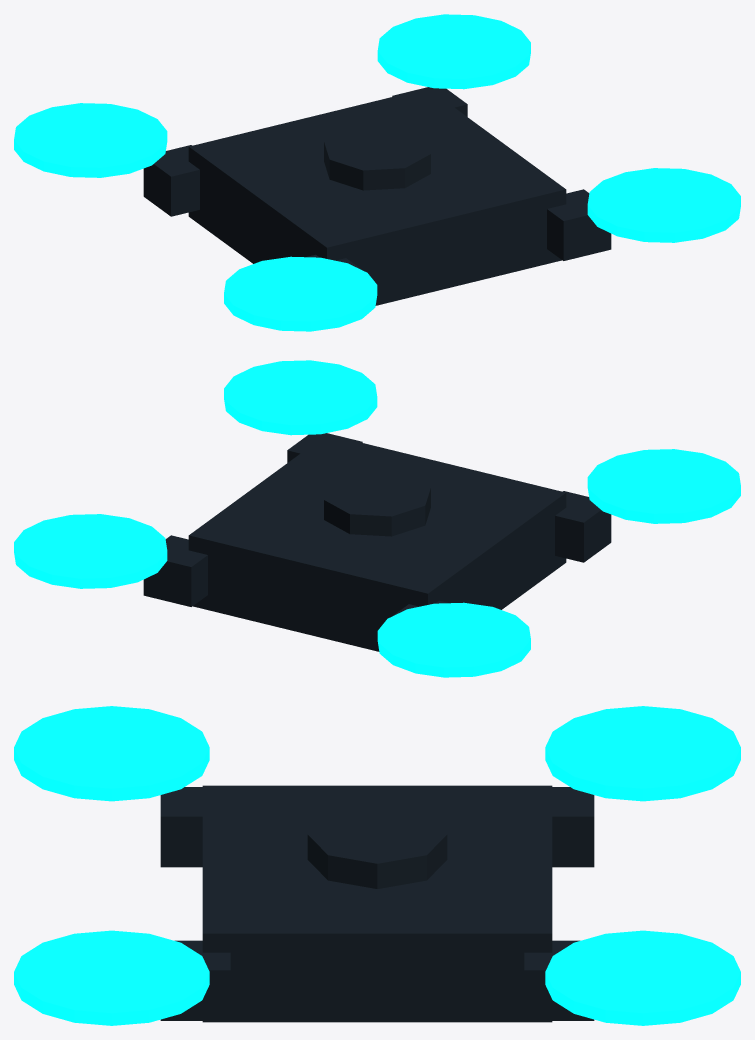
File: Drone.fbx
The picture shows the model from 3 angles, top to bottom: view 1: azimuth 30°, elevation 25°; view 2: azimuth 150°, elevation 25°; view 3: azimuth 270°, elevation 25°; orthographic projection. The views are drawn at different scales.
Parts seen in each view (by area): view 1: Drone_Body, Drone_Rotor_BL, Drone_Rotor_BR, Drone_Rotor_FL, Drone_Rotor_FR, Drone_CentreDome, Drone_Arm_BR, Drone_Arm_FL; view 2: Drone_Body, Drone_Rotor_BL, Drone_Rotor_BR, Drone_Rotor_FL, Drone_Rotor_FR, Drone_CentreDome, Drone_Arm_FR, Drone_Arm_BL; view 3: Drone_Body, Drone_Rotor_BL, Drone_Rotor_BR, Drone_Rotor_FL, Drone_Rotor_FR, Drone_CentreDome, Drone_Arm_BL, Drone_Arm_FL, Drone_Arm_BR, Drone_Arm_FR.
Boxes of the visible parts, bbox=[...] form: Drone_Body: bbox=[188, 88, 566, 305]; Drone_Rotor_BL: bbox=[224, 256, 377, 331]; Drone_Rotor_BR: bbox=[587, 168, 740, 242]; Drone_Rotor_FL: bbox=[14, 103, 167, 177]; Drone_Rotor_FR: bbox=[377, 14, 530, 89]; Drone_CentreDome: bbox=[324, 125, 430, 190]; Drone_Arm_BR: bbox=[547, 189, 611, 260]; Drone_Arm_FL: bbox=[143, 145, 199, 216]; Drone_Body: bbox=[188, 434, 566, 651]; Drone_Rotor_BL: bbox=[587, 449, 740, 523]; Drone_Rotor_BR: bbox=[224, 360, 377, 435]; Drone_Rotor_FL: bbox=[377, 602, 530, 677]; Drone_Rotor_FR: bbox=[14, 514, 167, 588]; Drone_CentreDome: bbox=[324, 471, 430, 536]; Drone_Arm_FR: bbox=[143, 535, 207, 606]; Drone_Arm_BL: bbox=[555, 491, 611, 562]; Drone_Body: bbox=[202, 785, 552, 1022]; Drone_Rotor_BL: bbox=[14, 706, 209, 801]; Drone_Rotor_BR: bbox=[14, 930, 209, 1025]; Drone_Rotor_FL: bbox=[545, 706, 740, 801]; Drone_Rotor_FR: bbox=[545, 930, 740, 1025]; Drone_CentreDome: bbox=[307, 805, 447, 888]; Drone_Arm_BL: bbox=[160, 787, 202, 867]; Drone_Arm_FL: bbox=[552, 787, 594, 867]; Drone_Arm_BR: bbox=[160, 940, 230, 1020]; Drone_Arm_FR: bbox=[524, 940, 594, 1020].
Bounding box in the file's own units: 1.04 × 1.04 × 0.26.
